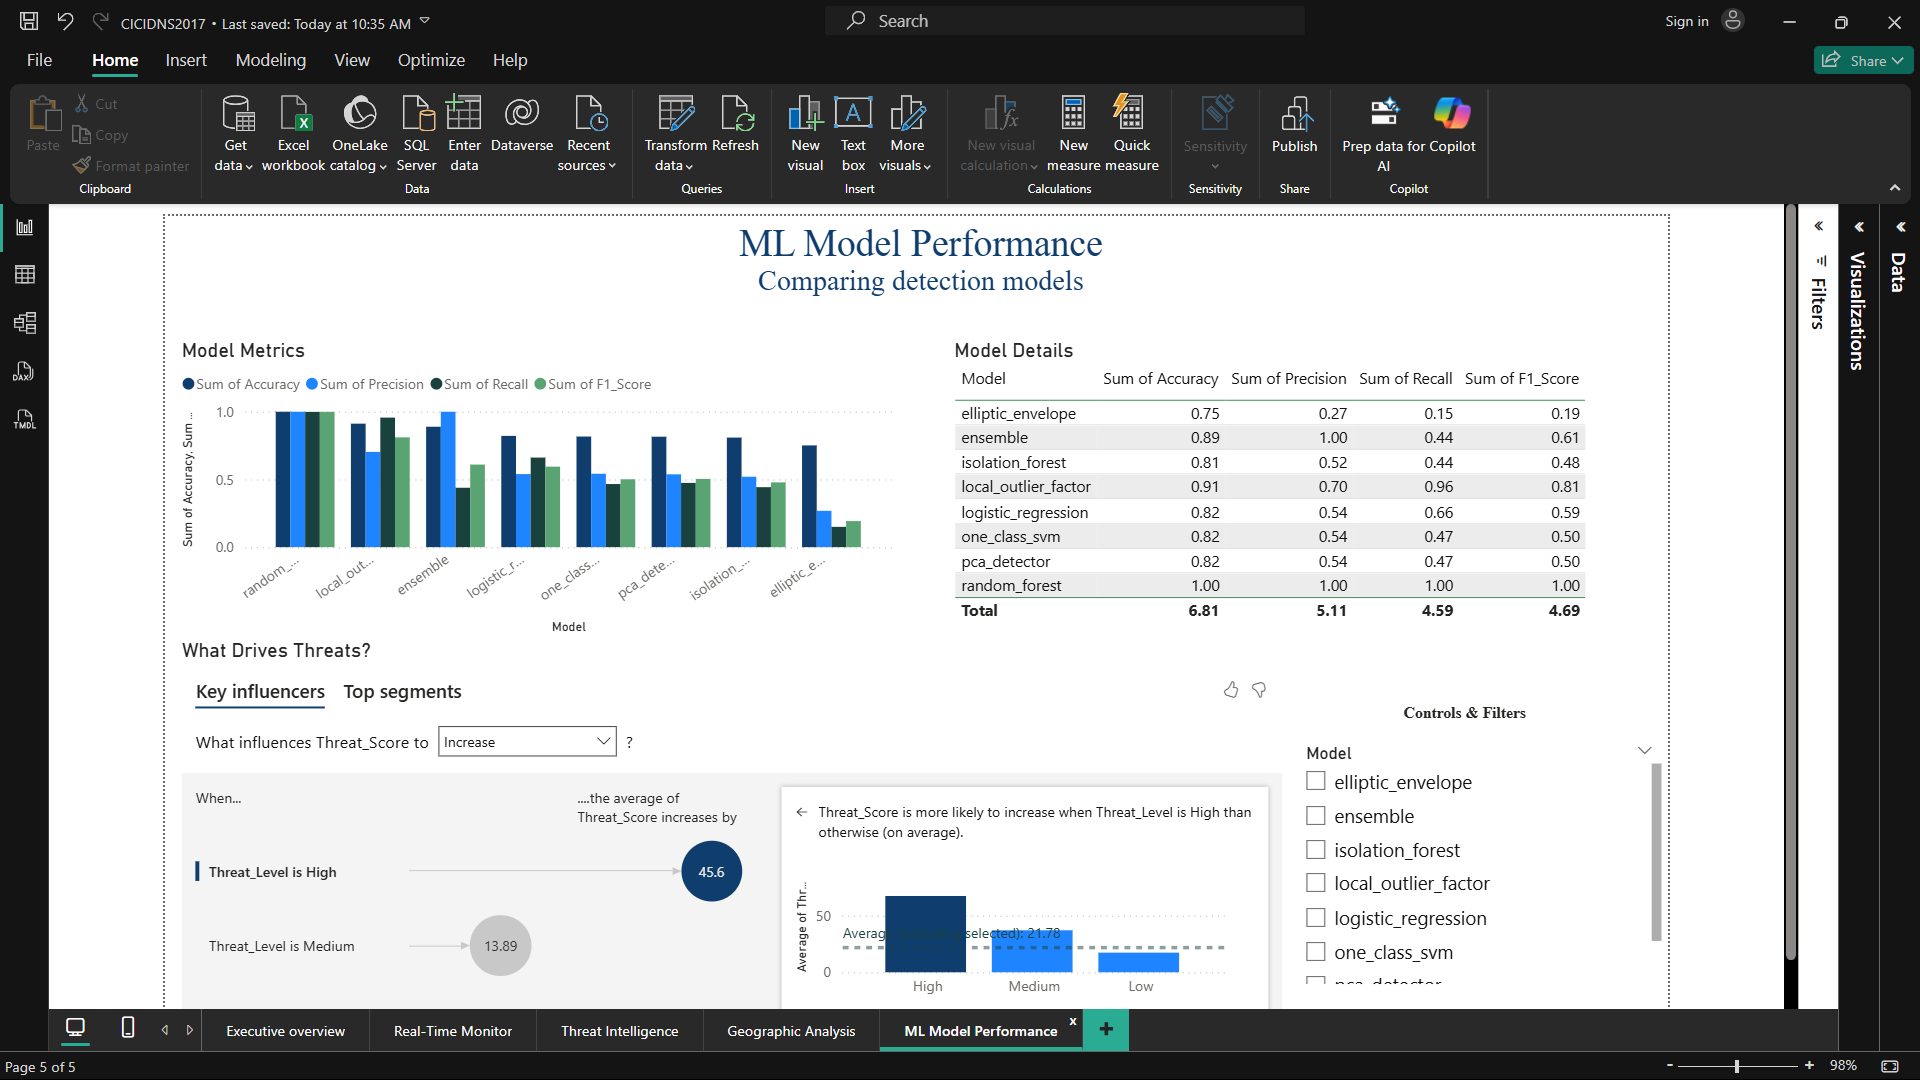

Layout of this report page (visuals, bound fields, positions):
{"tool":"powerbi","page":{"name":"ML Model Performance","canvas":[1280,720],"ordinal":4},"visuals":[{"type":"textbox","box":[9.2,0,1269.4,94.6],"z":0},{"type":"clusteredColumnChart","title":"Model Metrics","fields":{"Category":["model_performance.Model"],"Y":["Sum(model_performance.Accuracy)","Sum(model_performance.Precision)","Sum(model_performance.Recall)","Sum(model_performance.F1_Score)"]},"box":[9.2,104.1,615.3,256.1],"z":1},{"type":"keyDriversVisual","title":"What Drives Threats?","fields":{"ExplainBy":["network_traffic_data.Protocol","network_traffic_data.Destination_Port","network_traffic_data.Service","network_traffic_data.Source_Country","network_traffic_data.Threat_Level"],"Target":["network_traffic_data.Threat_Score"]},"box":[8.8,360.5,947.7,359.4],"z":2},{"type":"tableEx","title":"Model Details","fields":{"Values":["model_performance.Model","Sum(model_performance.Accuracy)","Sum(model_performance.Precision)","Sum(model_performance.Recall)","Sum(model_performance.F1_Score)"]},"box":[667.3,104.1,556.1,256.1],"z":3},{"type":"slicer","fields":{"Values":["model_performance.Model"]},"box":[959.2,443.9,320.4,215.3],"z":4},{"type":"textbox","box":[957.1,408.2,300,35.7],"z":5}]}

Visuals, with their boxes on the page's 1280x720 design canvas (x1, y1, x2, y2). These are canvas units, not pixel positions in the 1920x1080 screenshot, which may show the page scaled, cropped or inside an application window:
textbox: region(9, 0, 1279, 95)
"Model Metrics" clusteredColumnChart: region(9, 104, 624, 360)
"What Drives Threats?" keyDriversVisual: region(9, 360, 956, 720)
"Model Details" tableEx: region(667, 104, 1223, 360)
slicer - model_performance.Model: region(959, 444, 1280, 659)
textbox: region(957, 408, 1257, 444)
